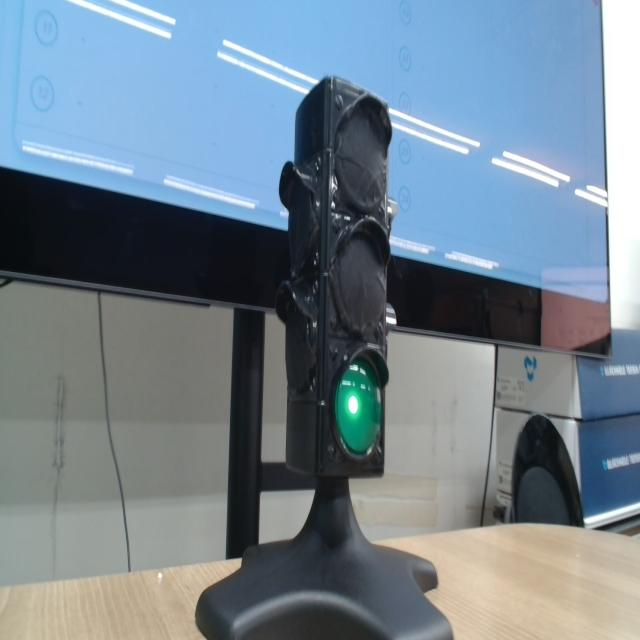green_light: (335, 359, 381, 455)
